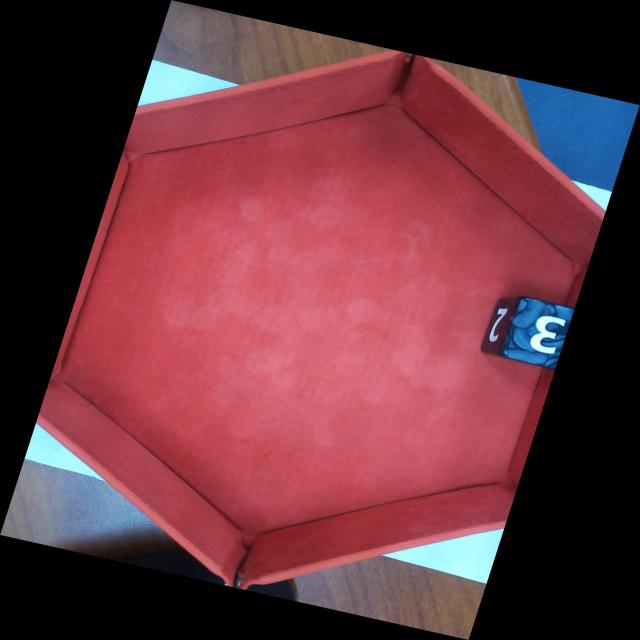dice: (502, 297, 575, 369)
